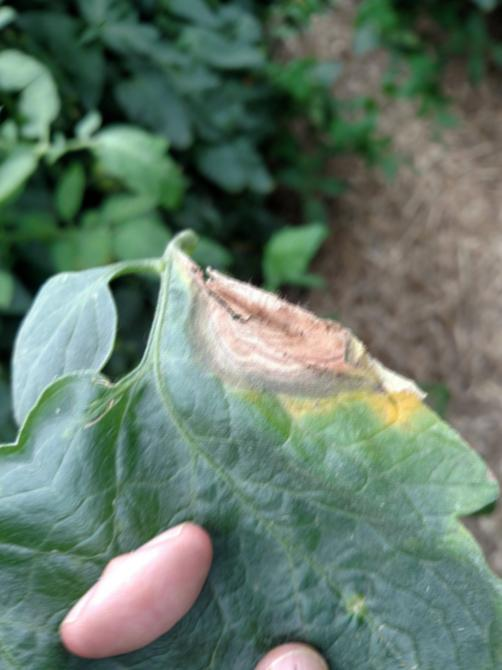Tomato mold leaf: (0, 130, 502, 670)
